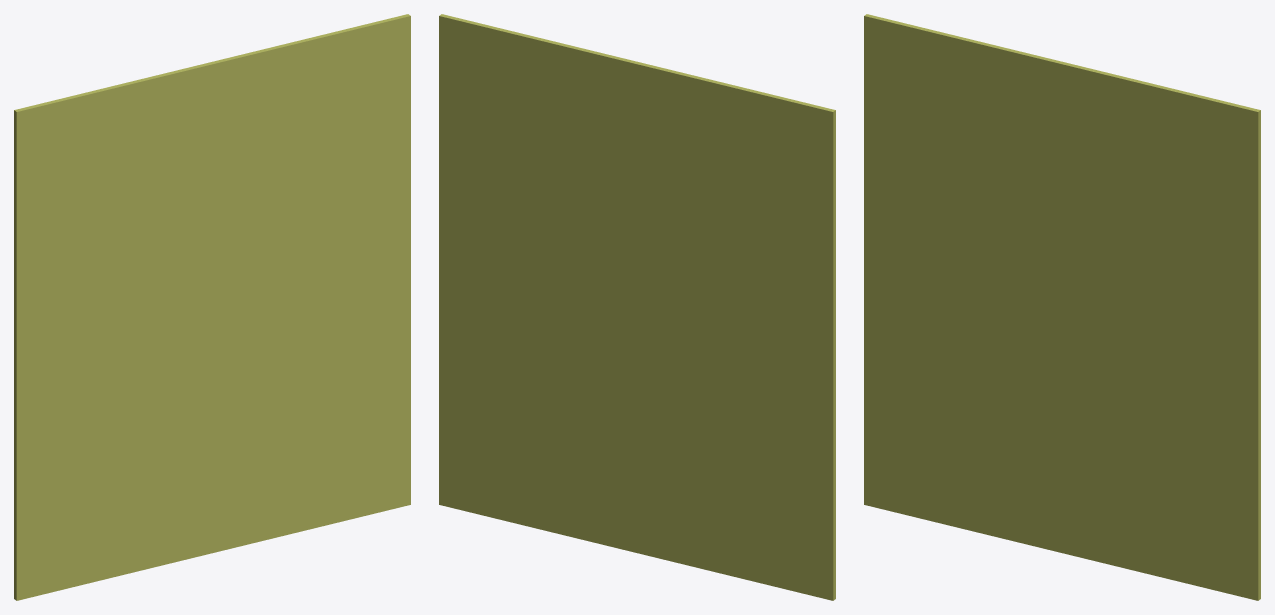
File: ventana2.obj
The picture shows the model from 3 angles, left to right: view 1: azimuth 30°, elevation 25°; view 2: azimuth 150°, elevation 25°; view 3: azimuth 330°, elevation 25°; orthographic projection.
Visible parts, largest first — view 1: Vidrio1_003_Cube_005_Cube_004_Vidrio; view 2: Vidrio1_003_Cube_005_Cube_004_Vidrio; view 3: Vidrio1_003_Cube_005_Cube_004_Vidrio.
Part boxes in pixels (x1=…): Vidrio1_003_Cube_005_Cube_004_Vidrio: x1=14, y1=14, x2=410, y2=600; Vidrio1_003_Cube_005_Cube_004_Vidrio: x1=439, y1=14, x2=835, y2=600; Vidrio1_003_Cube_005_Cube_004_Vidrio: x1=864, y1=14, x2=1260, y2=600.
Size of the model in its own units: 9.76 by 11.57 by 0.1143.
